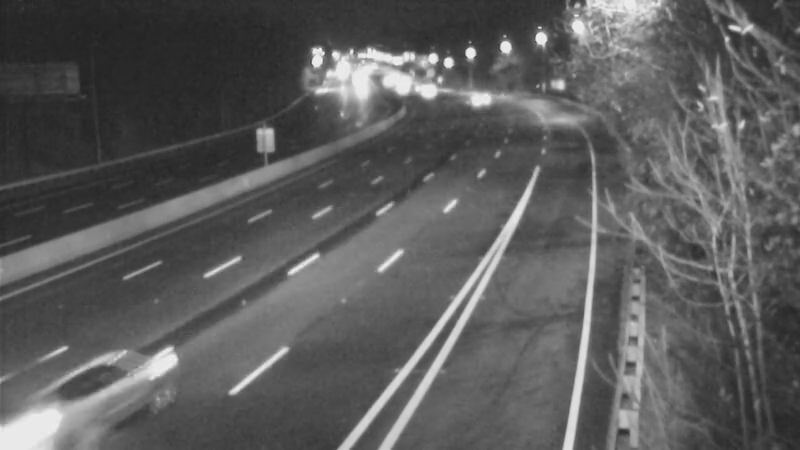vehicle: (49, 341, 159, 450), (405, 66, 455, 116), (451, 75, 501, 125)
